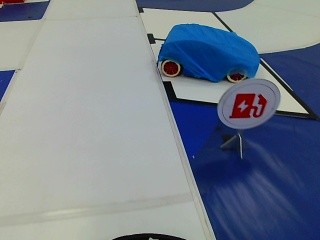battery: (217, 80, 276, 129)
car: (153, 21, 261, 83)
